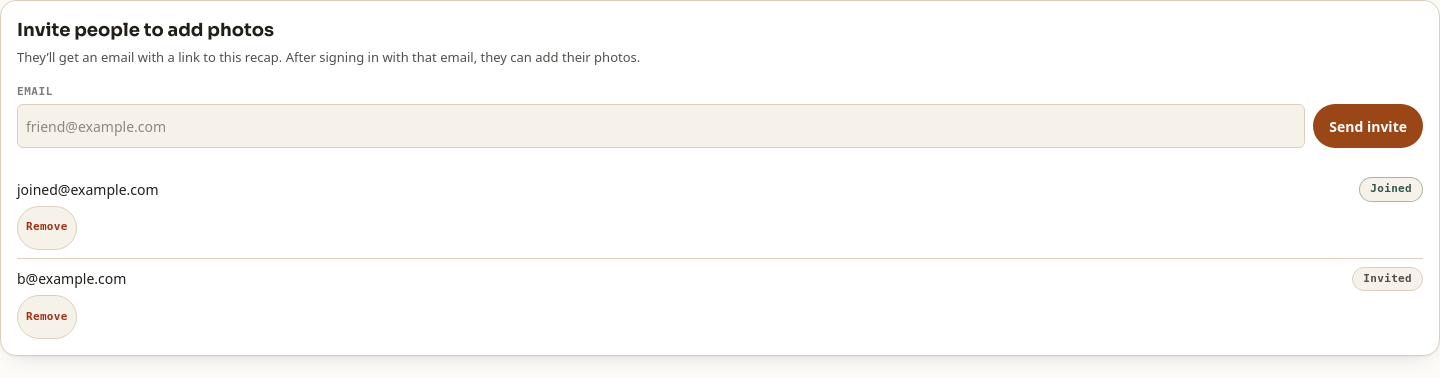
InvitePeople › a joined person shows "Joined" with a Remove control; confirming removes their access and drops the row
The image size is (1440, 378).
Check: the text "joined@example.com" is shown, box [17,179,159,200]
Check: the text "Joined" is shown, box [1359,177,1423,202]
Click the button with aria-label "Remove access for joined@example.com" at (47, 228), box [17,206,77,250]
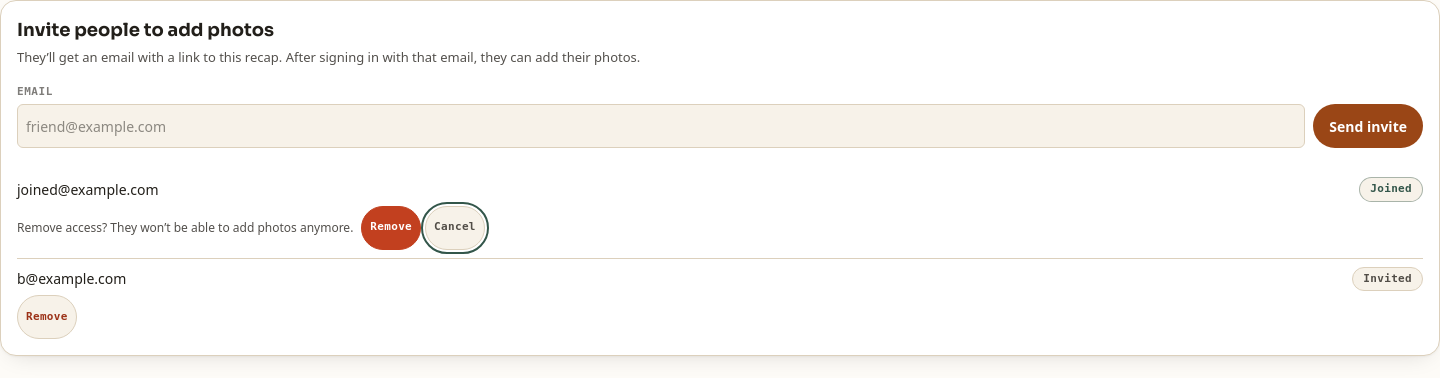
Check: the text "Remove access? They won’t be able to add photos anymore." is shown, box [17,218,353,236]
Click the button "Remove" below "joined@example.com" at (391, 228), box [361,206,421,250]
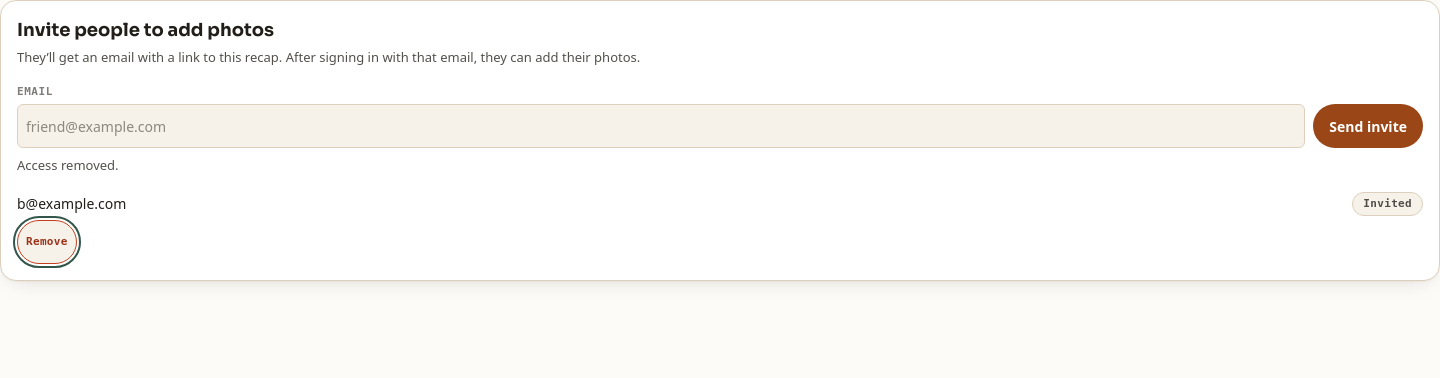
Check: the text "joined@example.com" is gone
Check: the message reads "Access removed.", box [17,156,119,174]
